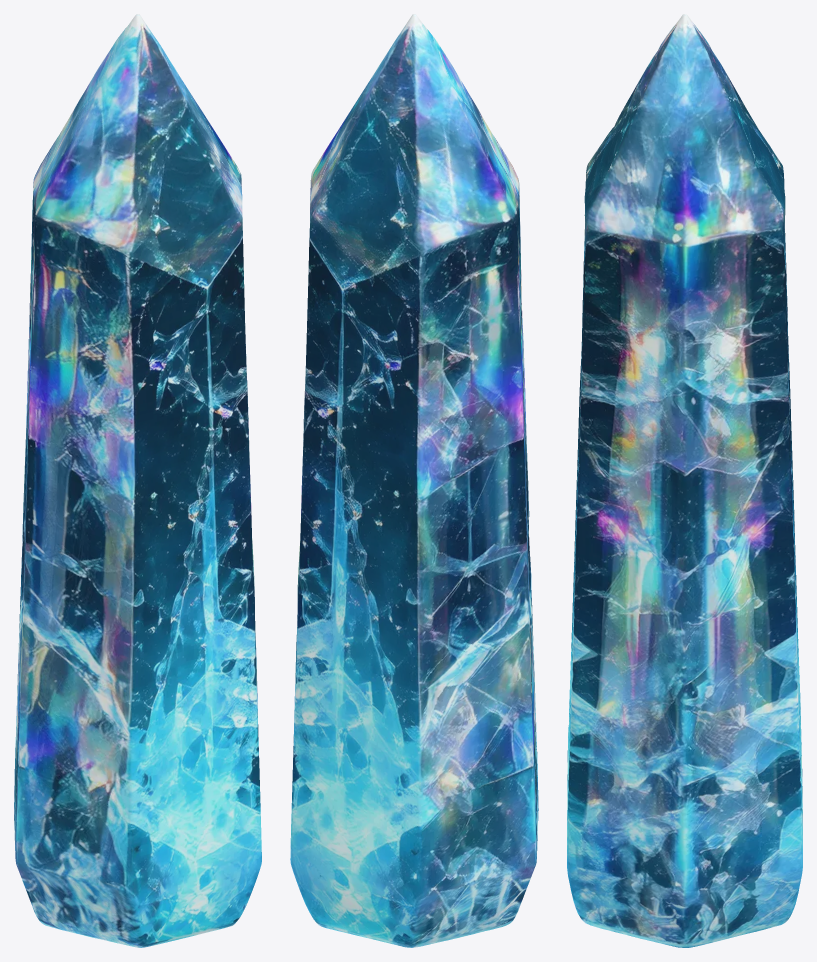
File: crystal-spire-prismatic.glb
3 renders of one model, left to right at view 1: azimuth 30°, elevation 25°; view 2: azimuth 150°, elevation 25°; view 3: azimuth 270°, elevation 25°, orthographic.
Visible parts, largest first — view 1: Mesh1.0; view 2: Mesh1.0; view 3: Mesh1.0.
Part boxes in pixels (x1=…): Mesh1.0: x1=14, y1=14, x2=261, y2=947; Mesh1.0: x1=290, y1=14, x2=538, y2=947; Mesh1.0: x1=567, y1=14, x2=802, y2=947.
Bounding box in the file's own units: 0.5449 × 1.91 × 0.4592.
1 material, 1 textured.
